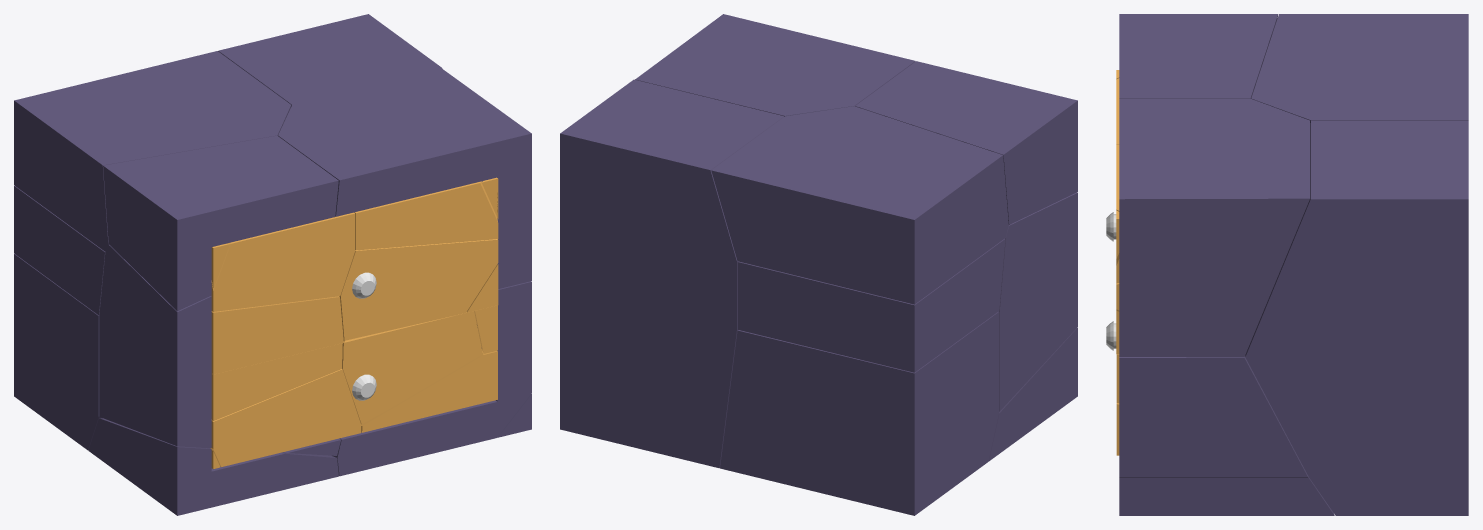
Rendered from NightstandShatter.fbx.
The picture shows the model from 3 angles, left to right: view 1: azimuth 30°, elevation 25°; view 2: azimuth 150°, elevation 25°; view 3: azimuth 270°, elevation 25°; orthographic projection. The views are drawn at different scales.
Visible parts, largest first — view 1: Cube_cell.007, Cube_cell.002, Cube_cell.001, Cube_cell.003, Cube_cell, Cube_cell.005, Cube_cell.008, Cube.003_cell.001, Cube_cell.006, Cube.003_cell.006, Cube.005_cell.004, Cube.005_cell.001 (+9 smaller); view 2: Cube_cell.008, Cube_cell.002, Cube_cell, Cube_cell.009, Cube_cell.001, Cube_cell.007, Cube_cell.003, Cube_cell.005; view 3: Cube_cell.008, Cube_cell.007, Cube_cell.002, Cube_cell.006, Cube_cell.001, Cube_cell.004, Cylinder.
Part boxes in pixels (<box>): Cube_cell.007: <box>278,68,531,288</box>; Cube_cell.002: <box>14,51,291,251</box>; Cube_cell.001: <box>103,135,338,311</box>; Cube_cell.003: <box>99,244,340,455</box>; Cube_cell: <box>14,253,102,450</box>; Cube_cell.005: <box>88,418,338,515</box>; Cube_cell.008: <box>218,14,442,106</box>; Cube.003_cell.001: <box>339,239,498,342</box>; Cube_cell.006: <box>332,281,531,476</box>; Cube.003_cell.006: <box>211,212,355,311</box>; Cube.005_cell.004: <box>342,311,482,424</box>; Cube.005_cell.001: <box>210,369,361,466</box>; Cube_cell.008: <box>560,79,784,468</box>; Cube_cell.002: <box>711,106,1008,304</box>; Cube_cell: <box>720,311,999,515</box>; Cube_cell.009: <box>737,238,1005,372</box>; Cube_cell.001: <box>855,61,1077,224</box>; Cube_cell.007: <box>635,14,915,116</box>; Cube_cell.003: <box>999,192,1077,411</box>; Cube_cell.005: <box>988,327,1077,461</box>; Cube_cell.008: <box>1245,120,1468,515</box>; Cube_cell.007: <box>1119,98,1309,357</box>; Cube_cell.002: <box>1251,14,1468,121</box>; Cube_cell.006: <box>1119,355,1309,478</box>; Cube_cell.001: <box>1119,14,1278,98</box>; Cube_cell.004: <box>1119,478,1334,515</box>; Cylinder: <box>1106,212,1116,350</box>.
Size of the model in its own units: 98.67 by 78.72 by 81.63.
